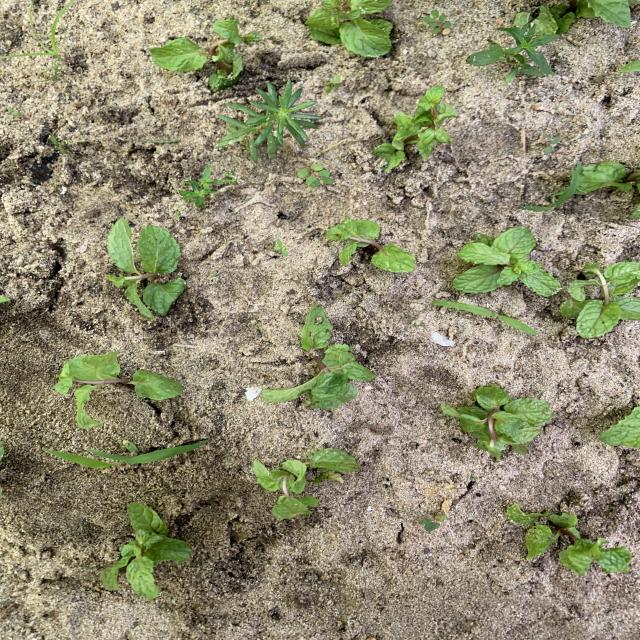crop: (263, 306, 374, 409), (54, 352, 183, 427), (506, 503, 631, 574), (102, 503, 191, 599), (441, 386, 552, 459), (151, 19, 261, 90), (108, 218, 184, 317), (254, 449, 359, 519), (453, 227, 559, 295), (375, 86, 457, 170), (561, 262, 639, 336), (529, 161, 639, 211), (306, 0, 393, 56), (327, 220, 415, 271), (532, 1, 631, 35), (600, 404, 639, 447)
weed: (217, 79, 321, 162), (468, 26, 557, 82), (0, 0, 75, 63), (44, 442, 207, 467), (432, 301, 536, 334), (180, 165, 220, 206), (298, 162, 333, 186), (420, 503, 449, 531), (424, 10, 451, 34), (49, 134, 70, 155), (542, 134, 560, 152), (274, 239, 287, 255), (327, 75, 340, 91), (8, 107, 22, 118), (177, 211, 180, 216)
